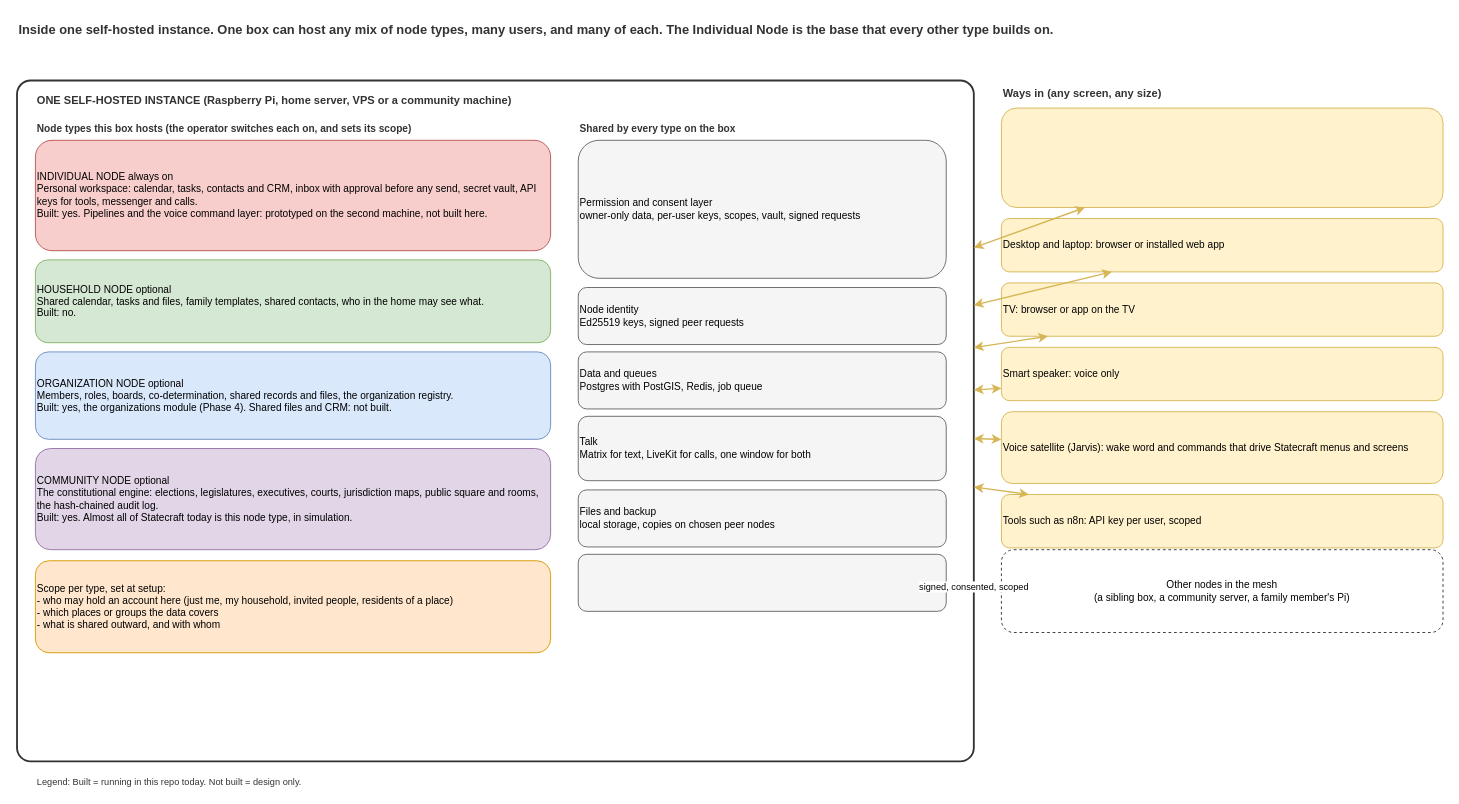
The diagram is 1459 pixels wide and 804 high, and some of its shapes have lost their labels. Each missing label, with the centre of its shape:
"Phone: installed web app (PWA), native app where possible" goes at (1221,157).
"Sync layer what each node shares with which other nodes" goes at (761,582).
